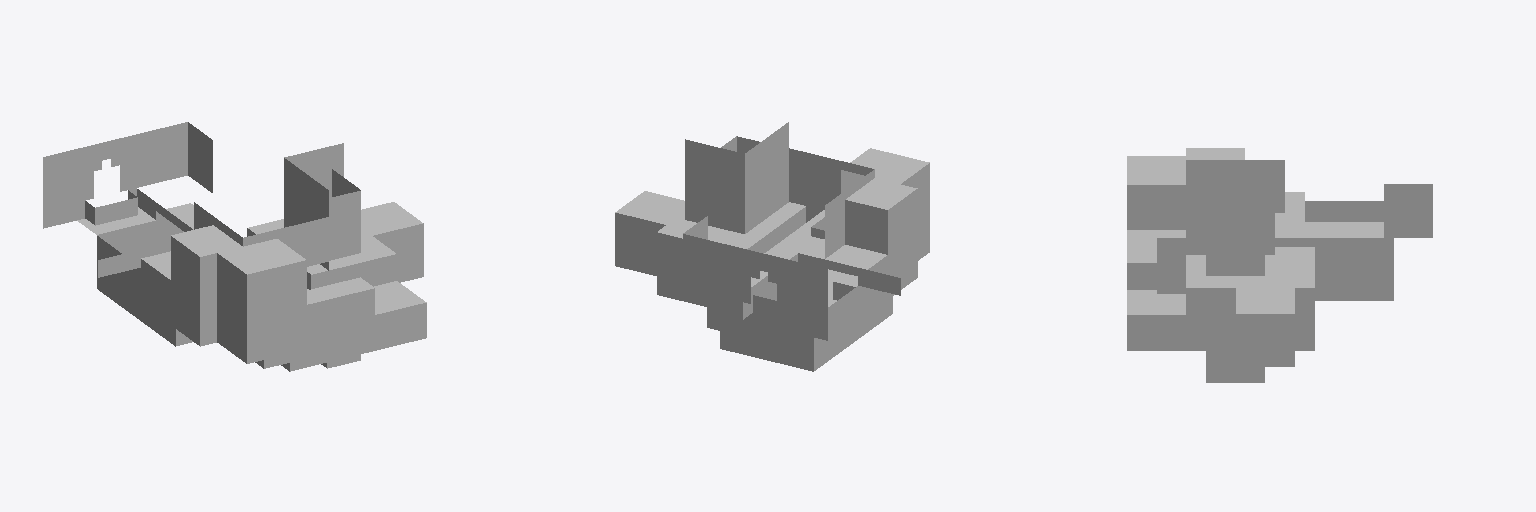
The model's file is test_level.obj.
3 views of the same model, side by side, from view 1: azimuth 30°, elevation 25°; view 2: azimuth 150°, elevation 25°; view 3: azimuth 270°, elevation 25° (orthographic).
Visible parts, largest first — view 1: Cube; view 2: Cube; view 3: Cube.
Part boxes in pixels (bbox=[...]): Cube: bbox=[43, 122, 426, 371]; Cube: bbox=[615, 122, 929, 371]; Cube: bbox=[1127, 148, 1432, 382].
Size of the model in its own units: 34 by 21 by 31.